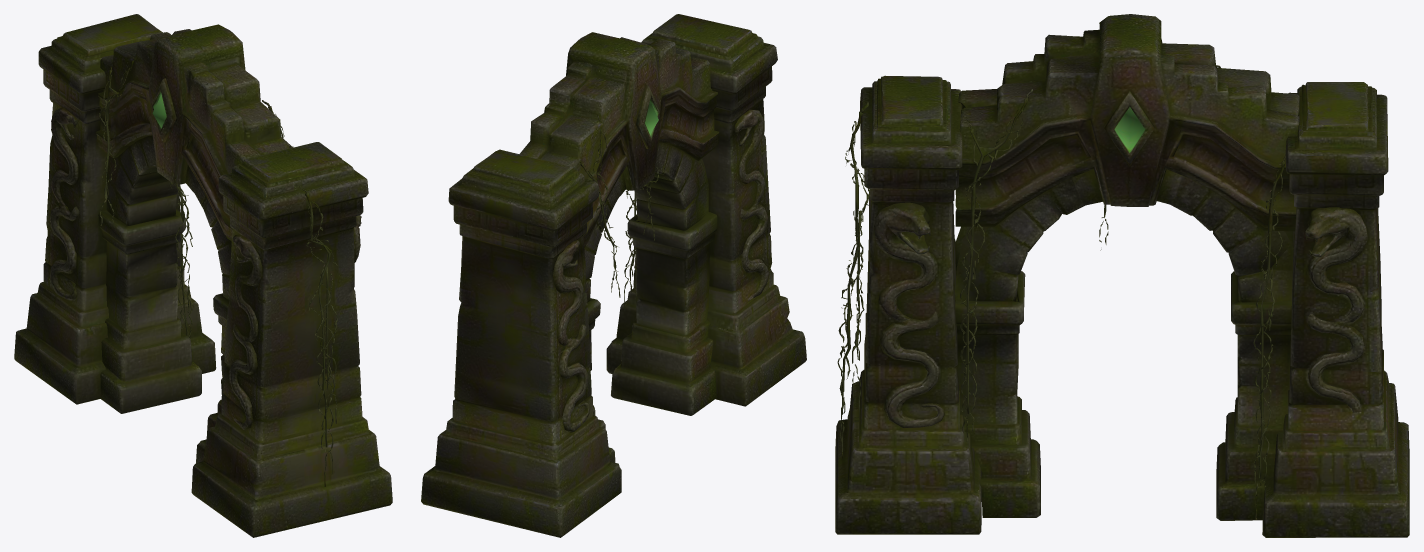
File: templeGate.glb
3 renders of one model, left to right at view 1: azimuth 30°, elevation 25°; view 2: azimuth 150°, elevation 25°; view 3: azimuth 270°, elevation 25°, orthographic. The views are drawn at different scales.
Parts seen in each view (by area): view 1: tripo_node_f4f4af5d-2a64-4b05-9c46-e7aa6c587490; view 2: tripo_node_f4f4af5d-2a64-4b05-9c46-e7aa6c587490; view 3: tripo_node_f4f4af5d-2a64-4b05-9c46-e7aa6c587490.
Part boxes in pixels (x1,y1,x2,y2): tripo_node_f4f4af5d-2a64-4b05-9c46-e7aa6c587490: (14, 14, 392, 537); tripo_node_f4f4af5d-2a64-4b05-9c46-e7aa6c587490: (421, 14, 806, 537); tripo_node_f4f4af5d-2a64-4b05-9c46-e7aa6c587490: (835, 14, 1409, 537).
Size of the model in its own units: 0.3457 by 0.8965 by 0.998.
1 material, 1 textured.
